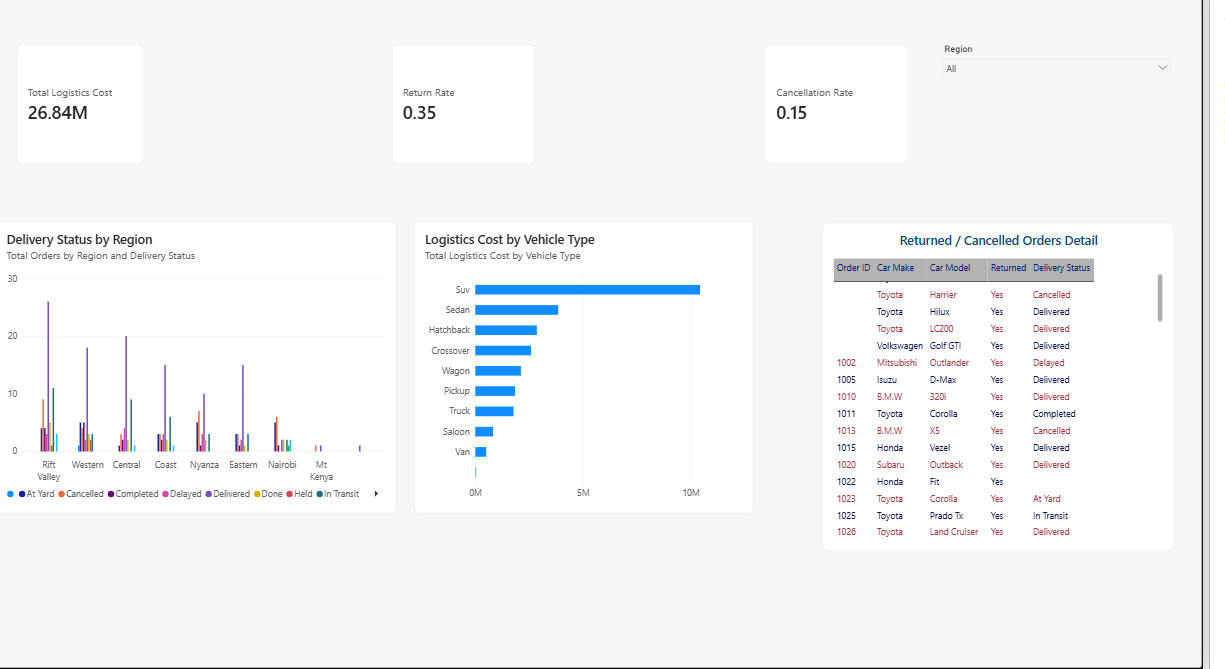

Layout of this report page (visuals, bound fields, positions):
{"tool":"powerbi","page":{"name":"Logistics & Returns","canvas":[1920,1080],"ordinal":3},"visuals":[{"type":"cardVisual","fields":{"Data":["CarSalesFacts (2).Total Logistics Cost"]},"box":[33,85.8,201.2,191.3],"z":0},{"type":"cardVisual","fields":{"Data":["CarSalesFacts (2).Return Rate"]},"box":[630.1,85.8,227.6,191.3],"z":1},{"type":"cardVisual","fields":{"Data":["CarSalesFacts (2).Cancellation Rate"]},"box":[1223.9,85.8,227.6,191.3],"z":2},{"type":"clusteredColumnChart","title":"Delivery Status by Region","fields":{"Category":["DimLocation.Region"],"Series":["CarSalesFacts (2).Delivery Status"],"Y":["CarSalesFacts (2).Total Orders"]},"box":[0,367.6,636.9,465.7],"z":3},{"type":"clusteredBarChart","title":"Logistics Cost by Vehicle Type","fields":{"Category":["DimCarDetails.Vehicle Type"],"Y":["CarSalesFacts (2).Total Logistics Cost"]},"box":[664.6,367.6,541.3,402.8],"z":4},{"type":"tableEx","title":"Returned / Cancelled Orders Detail","fields":{"Values":["CarSalesFacts (2).Order ID","DimCarDetails.Car Make","DimCarDetails.Car Model","CarSalesFacts (2).Returned","CarSalesFacts (2).Delivery Status"]},"box":[1314.1,370.1,558.9,521.1],"z":5},{"type":"slicer","fields":{"Values":["DimLocation.Region"]},"box":[1500.4,85.6,372.6,236.6],"z":6}]}

Visuals, with their boxes in screenshot pixels (x1, y1, x2, y2), scaled from the page's 1920x1080 canvas onto the 1225x669 screenshot:
cardVisual - CarSalesFacts (2).Total Logistics Cost: bbox=[21, 53, 149, 172]
cardVisual - CarSalesFacts (2).Return Rate: bbox=[402, 53, 547, 172]
cardVisual - CarSalesFacts (2).Cancellation Rate: bbox=[781, 53, 926, 172]
"Delivery Status by Region" clusteredColumnChart: bbox=[0, 228, 406, 516]
"Logistics Cost by Vehicle Type" clusteredBarChart: bbox=[424, 228, 769, 477]
"Returned / Cancelled Orders Detail" tableEx: bbox=[838, 229, 1195, 552]
slicer - DimLocation.Region: bbox=[957, 53, 1195, 200]
